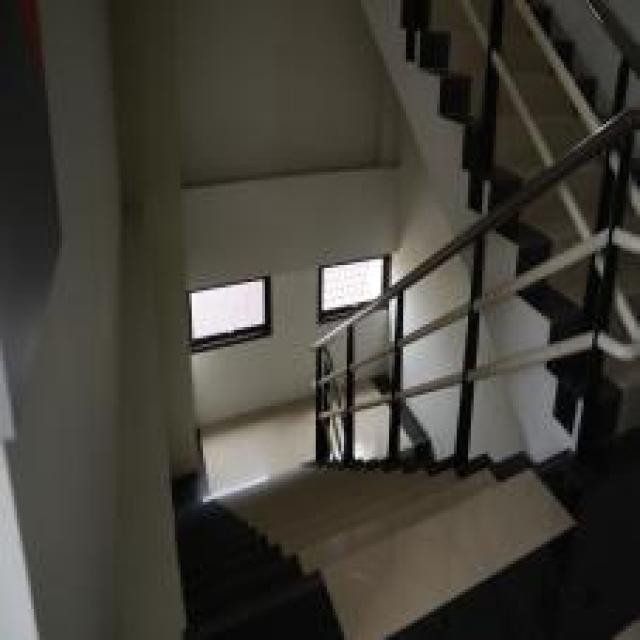downstair: (182, 478, 607, 638)
